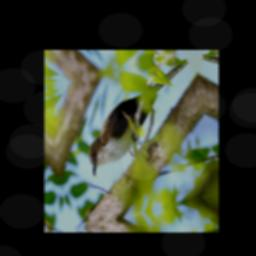Cuckoo: (75, 57, 203, 178)
